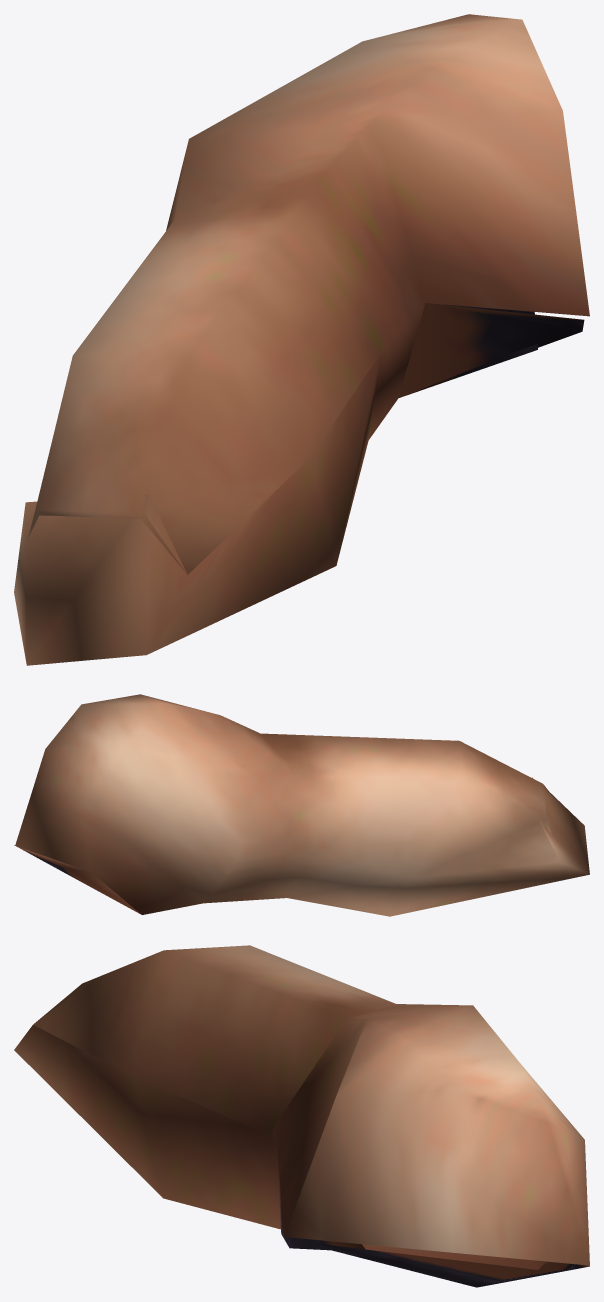
Rendered from Cloud_armR.obj.
3 views of the same model, one above another, from view 1: azimuth 30°, elevation 25°; view 2: azimuth 150°, elevation 25°; view 3: azimuth 270°, elevation 25° (orthographic). The views are drawn at different scales.
Visible parts, largest first — view 1: 0001_r_sym307; view 2: 0001_r_sym307; view 3: 0001_r_sym307.
Boxes of the visible parts, x1,y1,x2,y2 form: 0001_r_sym307: (14,14,589,665); 0001_r_sym307: (14,694,589,916); 0001_r_sym307: (14,945,589,1287).
Bounding box in the file's own units: 0.1627 × 0.0765 × 0.1363.
1 material, 1 textured.
